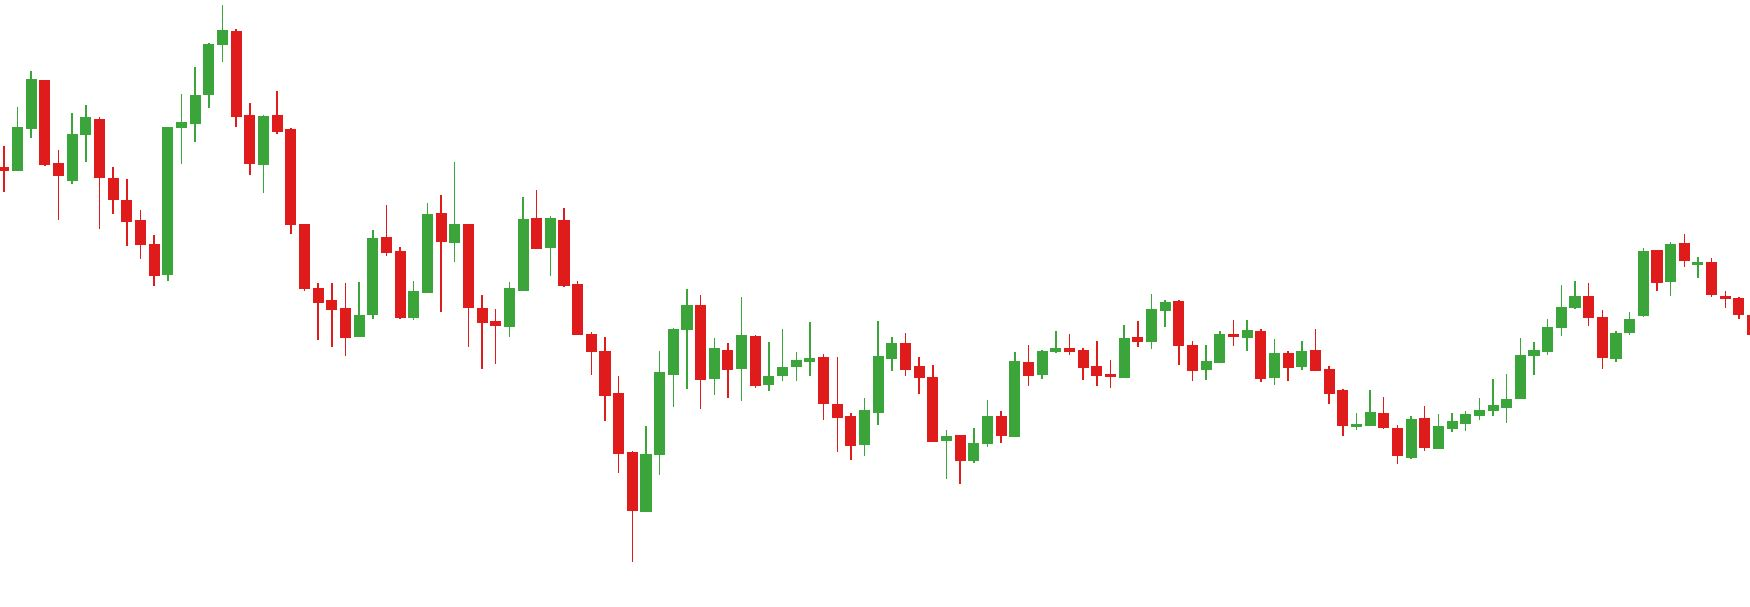buy: (845, 384, 954, 489)
sell: (25, 4, 242, 162), (378, 163, 461, 287)
